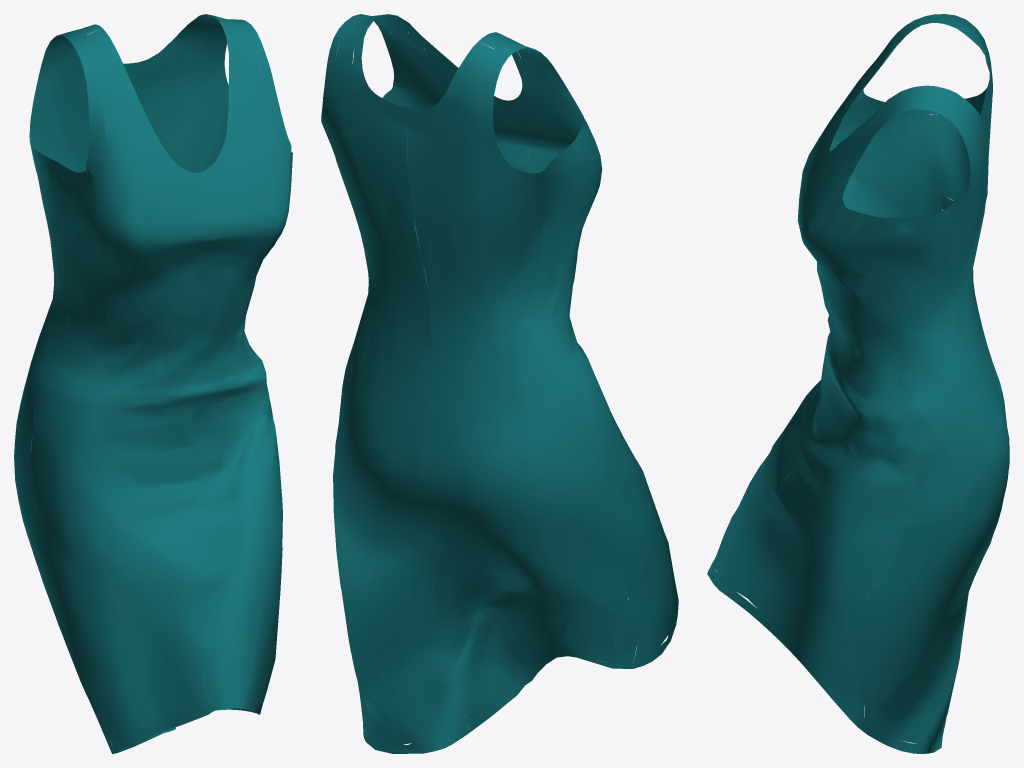
The model's file is dress.glb.
3 views of the same model, side by side, from view 1: azimuth 30°, elevation 25°; view 2: azimuth 150°, elevation 25°; view 3: azimuth 270°, elevation 25° (orthographic). The views are drawn at different scales.
Visible parts, largest first — view 1: Dress; view 2: Dress; view 3: Dress.
Boxes of the visible parts, x1,y1,x2,y2 form: Dress: (14, 14, 292, 753); Dress: (321, 14, 678, 753); Dress: (707, 14, 1009, 753).
Size of the model in its own units: 0.3623 by 0.9786 by 0.3969.
